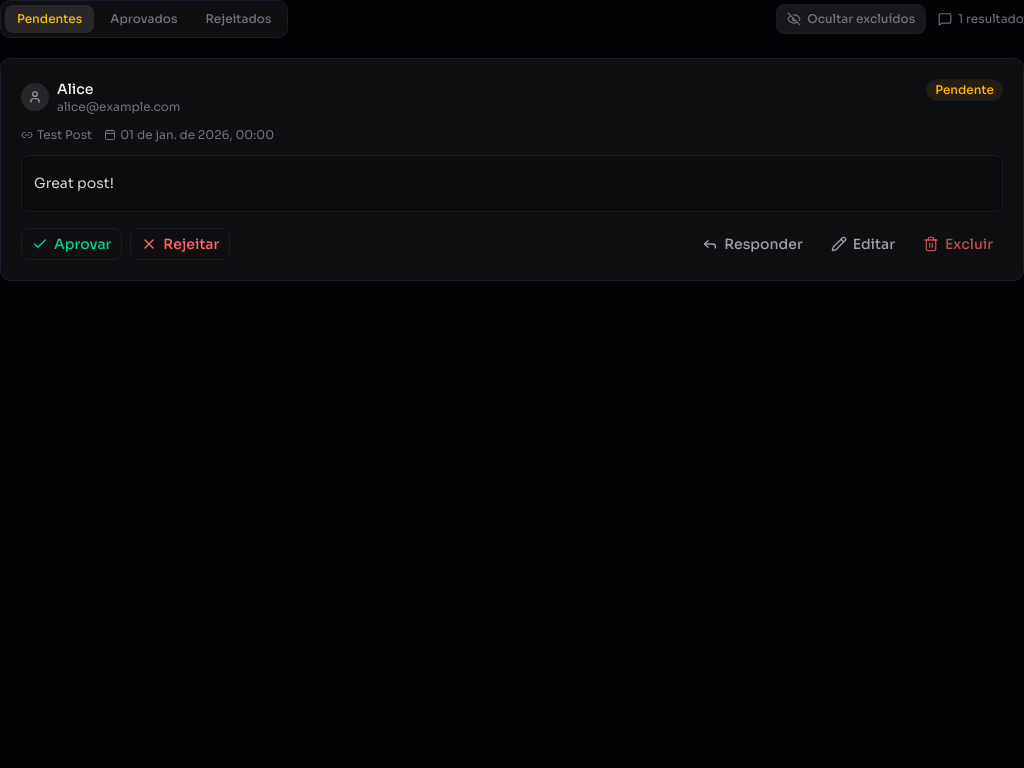
Test: CommentModerator › closes the edit dialog when Cancelar is clicked
Click the button "Editar".
click(863, 244)  # box [821,228,905,260]
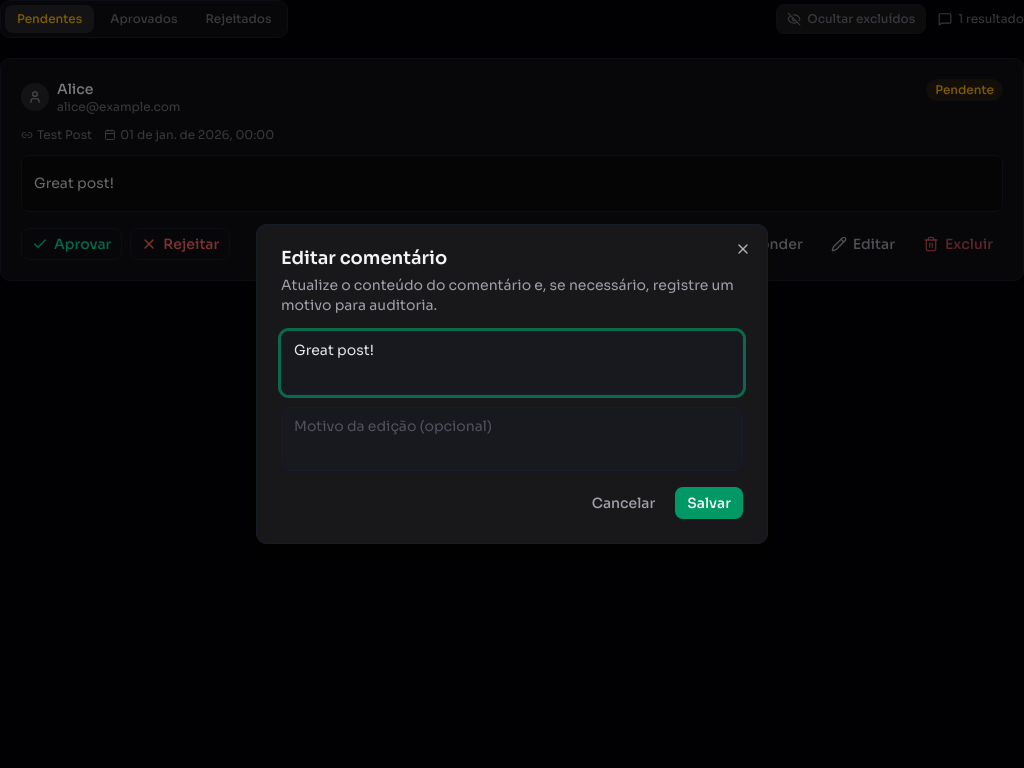
Check: the dialog is shown, box [256,224,768,544]
Click the button "Cancelar".
click(624, 503)  # box [580,487,667,519]
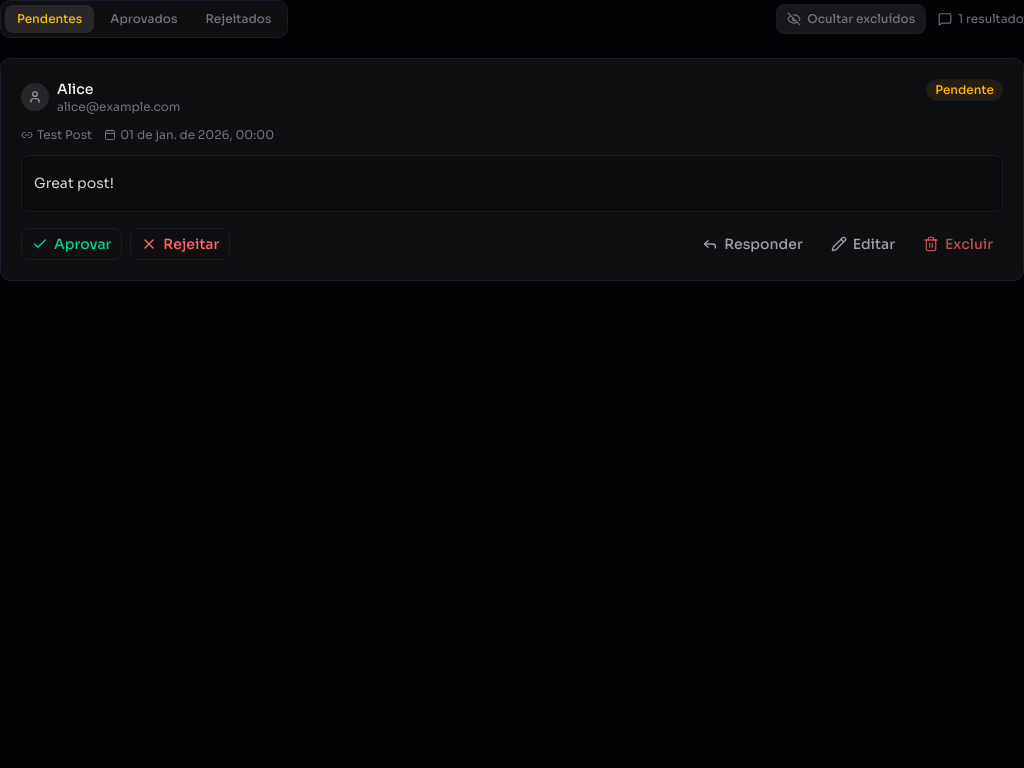
Check: the dialog is gone
